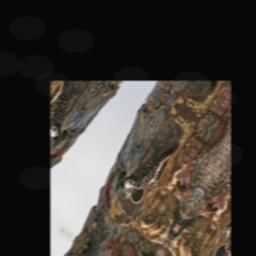Woodpecker: (115, 126, 187, 211)
